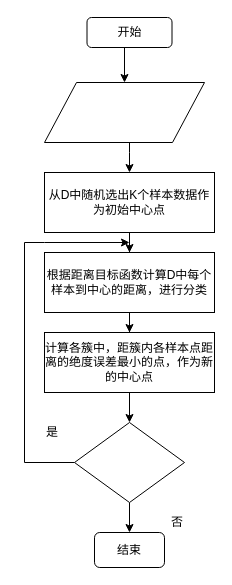
The diagram is 232 pixels wide and 585 high, and some of its shapes have lost their labels. The shapes that lost their labels are listed below. From the top down, each one's centre as x and y in pixels, then its label:
At (124,112): "聚类数目K 样本数据集合D".
At (129,462): "是否替换中心点".
